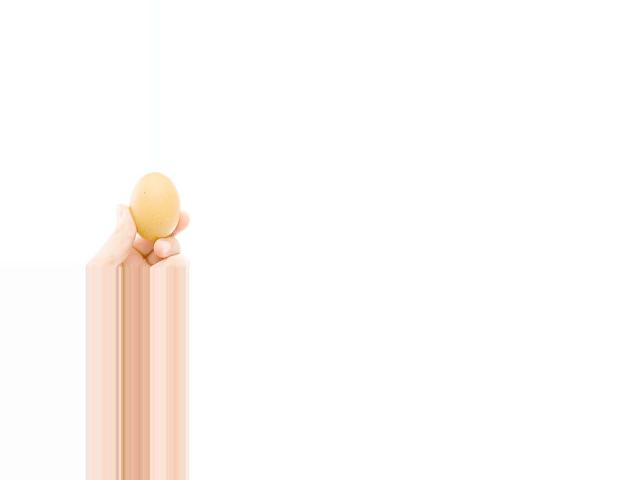egg: (129, 172, 181, 239)
